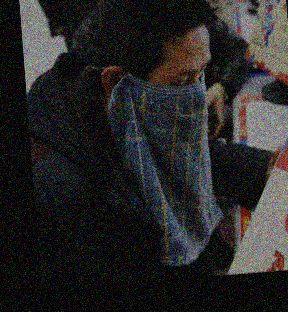with_mask: (126, 59, 215, 151)
